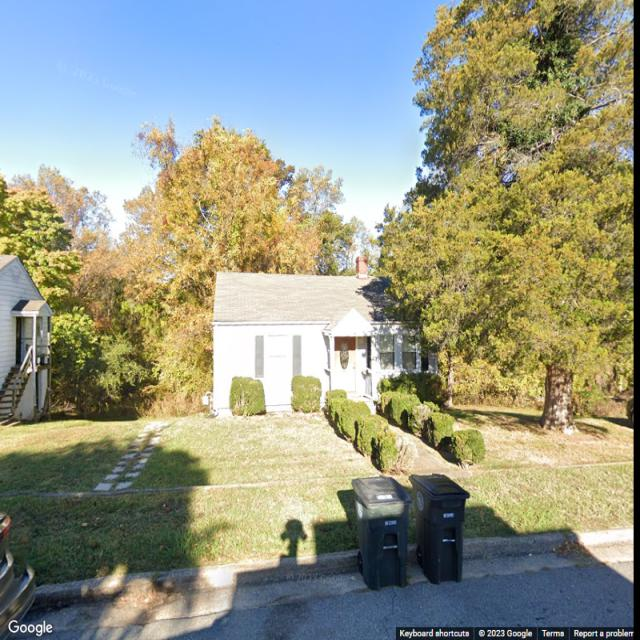House: (211, 254, 436, 416), (0, 253, 54, 422)
